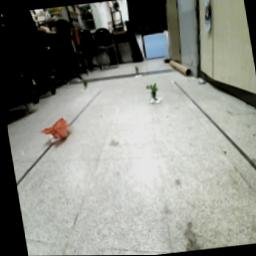herb: (144, 82, 161, 105), (81, 79, 89, 94)
wild: (36, 117, 71, 145)
